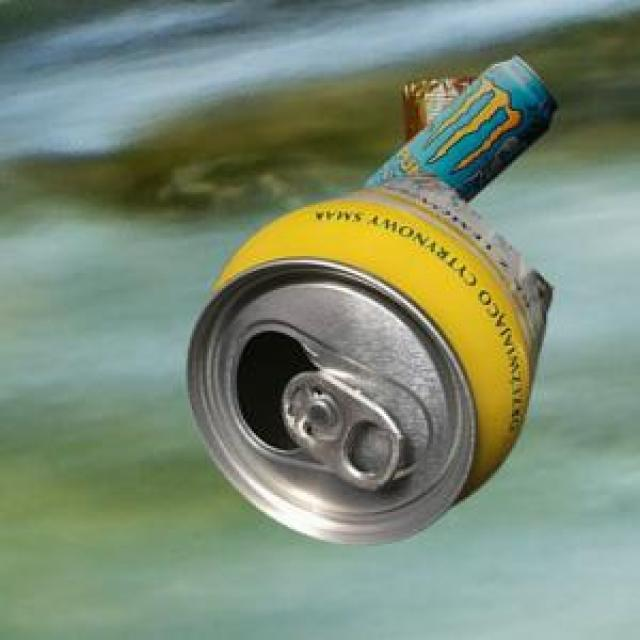Can: (185, 170, 549, 541), (362, 52, 556, 199), (400, 76, 473, 140)
